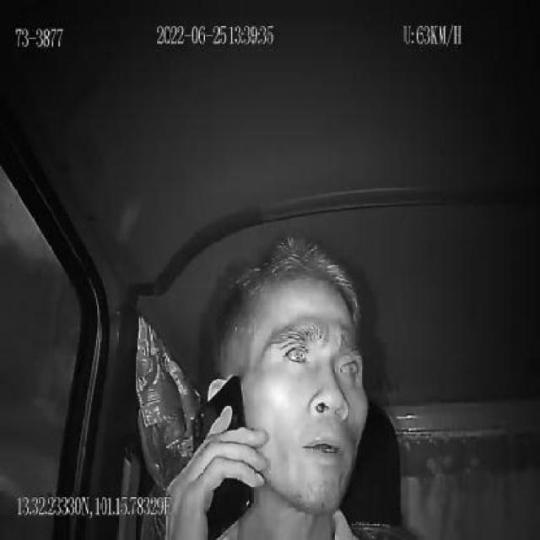phone: (190, 369, 255, 540)
